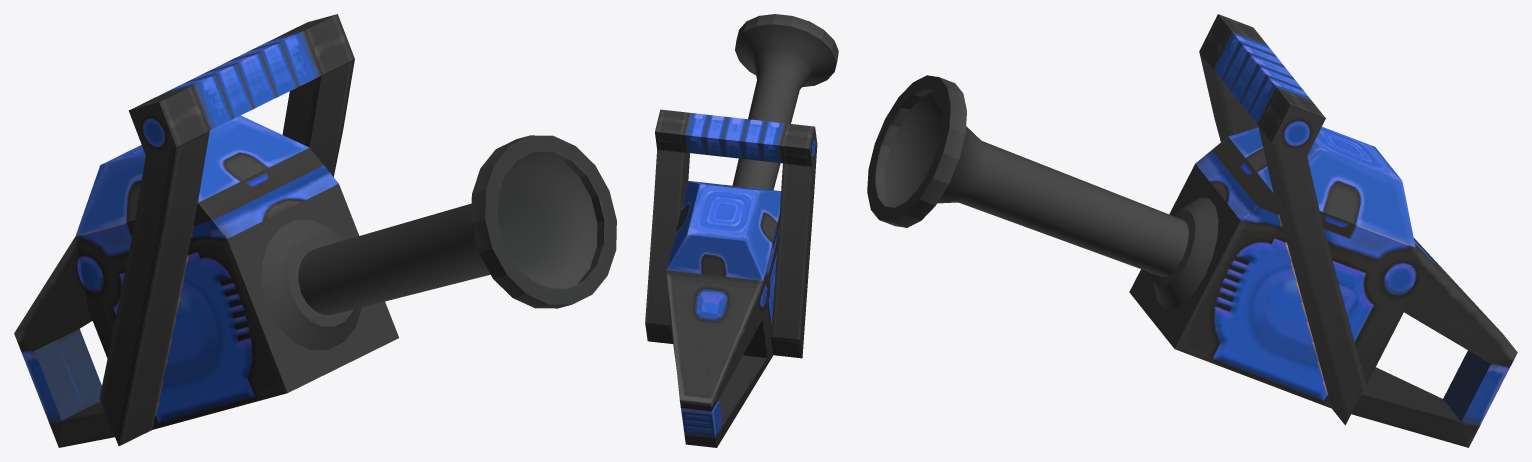
Rendered from tool_sproutgun.FBX.
3 views of the same model, side by side, from view 1: azimuth 30°, elevation 25°; view 2: azimuth 150°, elevation 25°; view 3: azimuth 270°, elevation 25° (orthographic). The views are drawn at different scales.
Parts seen in each view (by area): view 1: SproutGun; view 2: SproutGun; view 3: SproutGun.
Boxes of the visible parts, left/top/right/bottom form: SproutGun: left=14, top=14, right=616, bottom=447; SproutGun: left=645, top=14, right=838, bottom=447; SproutGun: left=867, top=14, right=1517, bottom=447.
Size of the model in its own units: 801 by 1183 by 1647.
